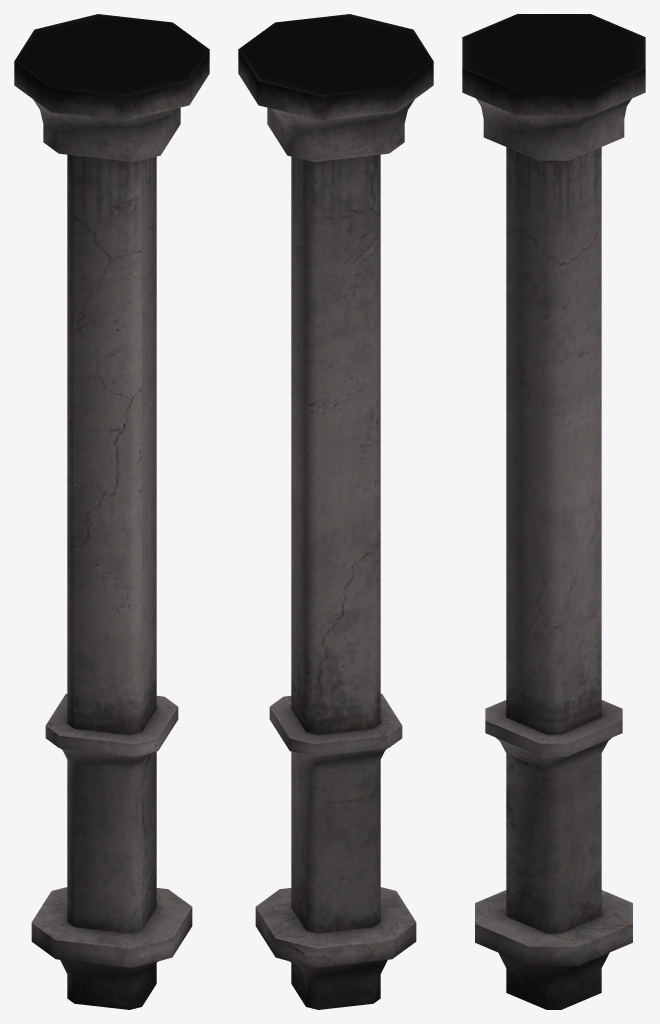
Rendered from 42_welder.dae.
The picture shows the model from 3 angles, left to right: view 1: azimuth 30°, elevation 25°; view 2: azimuth 150°, elevation 25°; view 3: azimuth 270°, elevation 25°; orthographic projection.
Parts seen in each view (by area): view 1: mansionbase_welder; view 2: mansionbase_welder; view 3: mansionbase_welder.
Boxes of the visible parts, x1,y1,x2,y2 form: mansionbase_welder: [14, 14, 209, 1009]; mansionbase_welder: [238, 14, 433, 1009]; mansionbase_welder: [462, 14, 645, 1009].
Bounding box in the file's own units: 0.7087 × 4 × 0.7087.
1 material, 1 textured.
